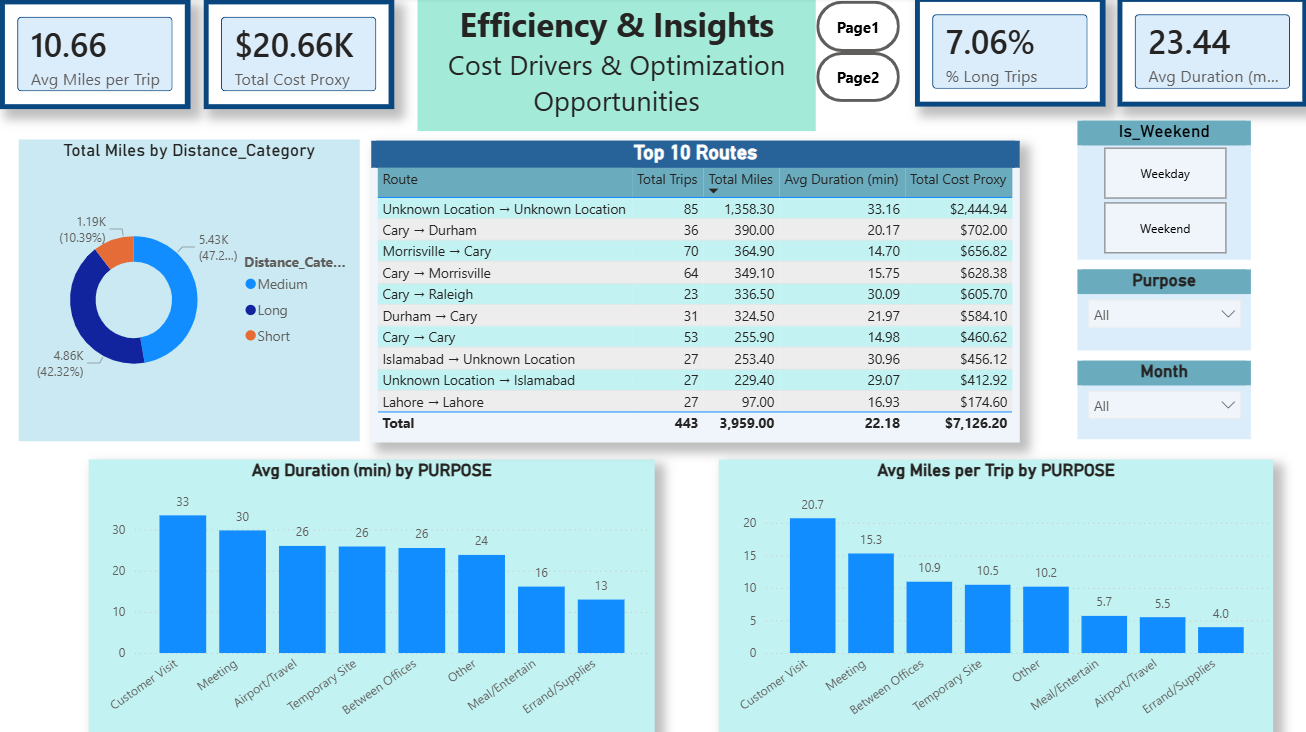

What the dashboard file says about the page in this screenshot:
{"tool":"powerbi","page":{"name":"Efficiency & Insights","canvas":[1280,720],"ordinal":2},"visuals":[{"type":"cardVisual","fields":{"Data":["Table1.% Long Trips"]},"box":[894.6,0,186.4,107.1],"z":0},{"type":"cardVisual","fields":{"Data":["Table1.Total Cost Proxy"]},"box":[199,2.8,186.4,107.1],"z":1000},{"type":"cardVisual","fields":{"Data":["Table1.Avg Miles per Trip"]},"box":[0,2.8,186.4,107.1],"z":2000},{"type":"cardVisual","fields":{"Data":["Table1.Avg Duration (min)"]},"box":[1093.6,0,186.4,107.1],"z":3000},{"type":"clusteredColumnChart","fields":{"Category":["Table1.PURPOSE"],"Y":["Table1.Avg Duration (min)"]},"box":[86.3,452.2,553.7,268.5],"z":4000},{"type":"donutChart","fields":{"Category":["Table1.Distance_Category"],"Y":["Table1.Total Miles"]},"box":[17.8,140,333.4,295],"z":5000},{"type":"tableEx","title":"Top 10 Routes","fields":{"Values":["Table1.Route","Table1.Total Trips","Table1.Total Miles","Table1.Avg Duration (min)","Table1.Total Cost Proxy"]},"box":[363.1,140.5,634.4,295],"z":6000},{"type":"clusteredColumnChart","fields":{"Y":["Table1.Avg Miles per Trip"],"Category":["Table1.PURPOSE"]},"box":[702.6,452.2,542.6,268.5],"z":7000},{"type":"slicer","title":"Purpose","fields":{"Values":["Table1.PURPOSE"]},"box":[1054.6,267.1,169.7,79.3],"z":8000},{"type":"slicer","title":"Month","fields":{"Values":["Table1.MONTH"]},"box":[1054.6,356.2,169.7,76.5],"z":9000},{"type":"slicer","title":"Is_Weekend","fields":{"Values":["Table1.Is_Weekend"]},"box":[1054.6,121,169.7,136.3],"z":10000},{"type":"textbox","box":[408.5,0,389.8,131.1],"z":11000},{"type":"actionButton","box":[798.5,3.7,81.9,50.1],"z":12000},{"type":"actionButton","box":[798.5,53.8,81.9,48.9],"z":13000}]}

Visuals, with their boxes in screenshot pixels (x1, y1, x2, y2), scaled from the page's 1280x720 canvas onto the 1306x732 screenshot:
cardVisual - Table1.% Long Trips: rect(913, 0, 1103, 109)
cardVisual - Table1.Total Cost Proxy: rect(203, 3, 393, 112)
cardVisual - Table1.Avg Miles per Trip: rect(0, 3, 190, 112)
cardVisual - Table1.Avg Duration (min): rect(1116, 0, 1305, 109)
clusteredColumnChart - Table1.PURPOSE x Table1.Avg Duration (min): rect(88, 460, 653, 731)
donutChart - Table1.Distance_Category x Table1.Total Miles: rect(18, 142, 358, 442)
"Top 10 Routes" tableEx: rect(370, 143, 1018, 443)
clusteredColumnChart - Table1.Avg Miles per Trip x Table1.PURPOSE: rect(717, 460, 1270, 731)
"Purpose" slicer: rect(1076, 272, 1249, 352)
"Month" slicer: rect(1076, 362, 1249, 440)
"Is_Weekend" slicer: rect(1076, 123, 1249, 262)
textbox: rect(417, 0, 815, 133)
actionButton: rect(815, 4, 898, 55)
actionButton: rect(815, 55, 898, 104)
